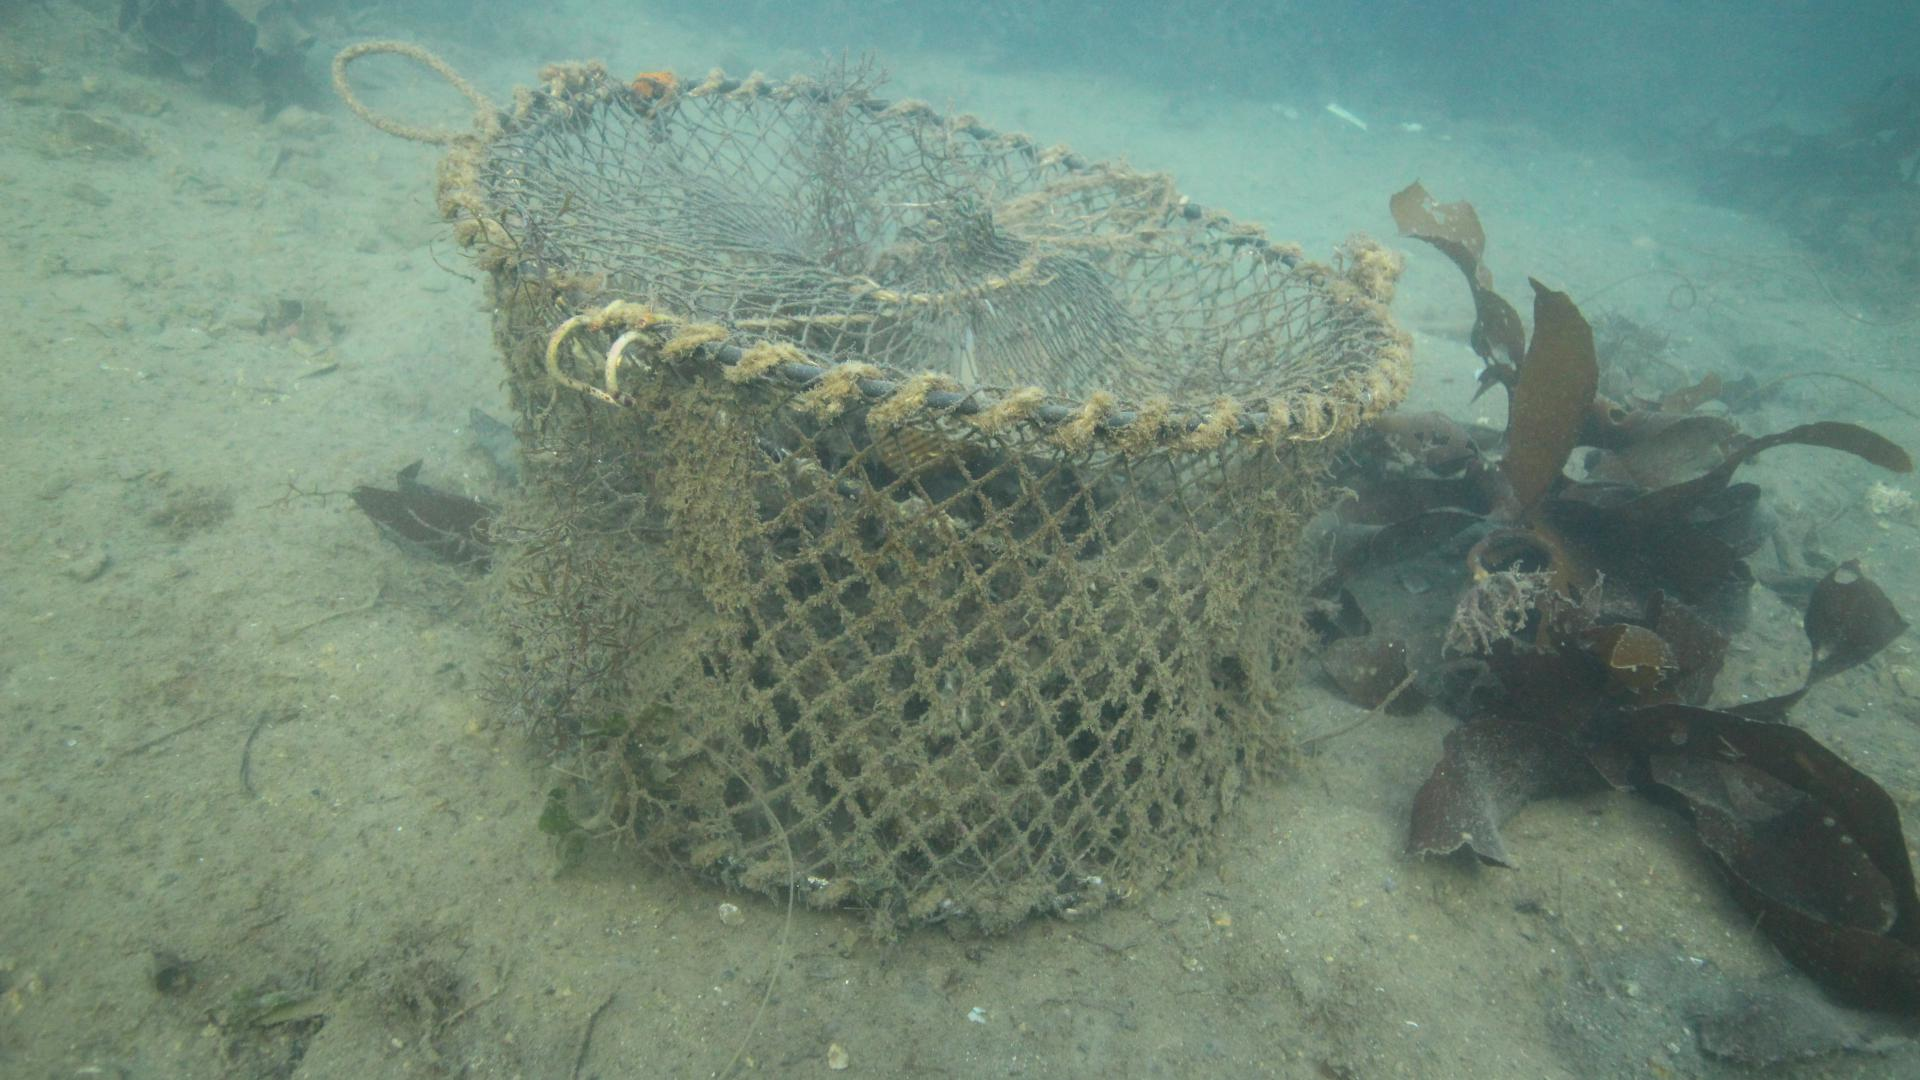circular fish trap: (444, 73, 1406, 931)
rope: (328, 36, 491, 142)
